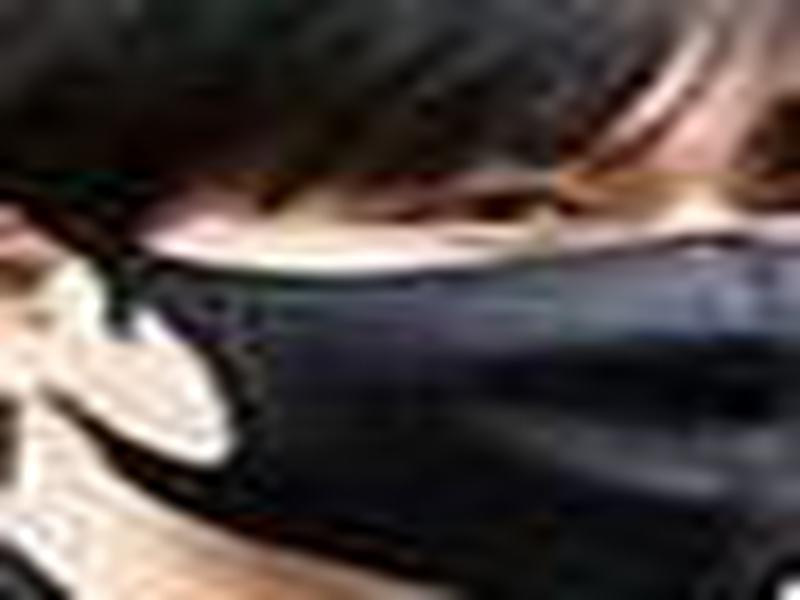with_mask: (5, 1, 798, 600)
